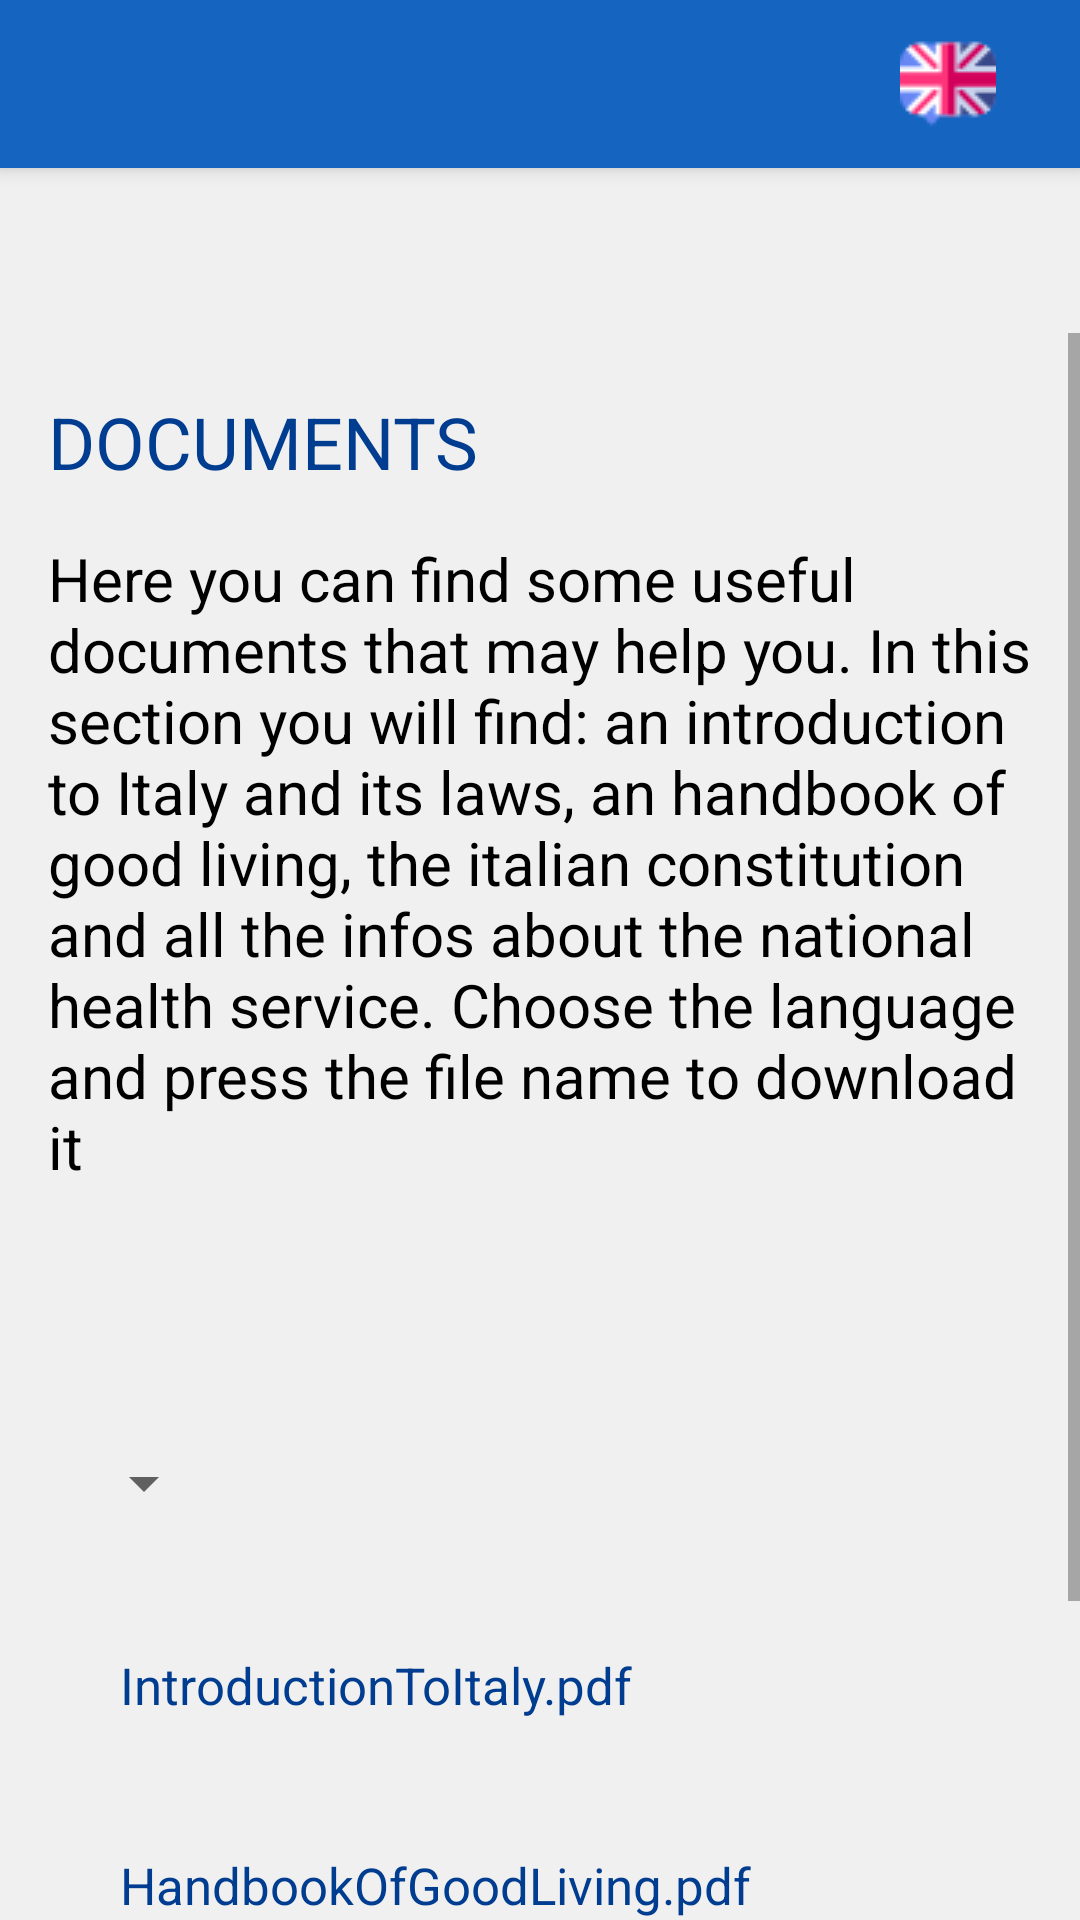

Icon bounding boxes for this 1080px x 1920px phone screenshot, format (x1, y1, x2, y2):
lang: (900, 41, 996, 125)
